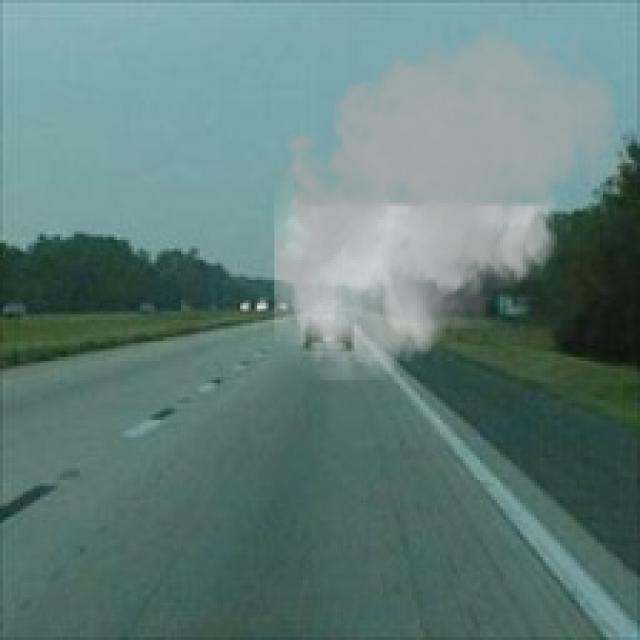Smoke: (260, 8, 626, 380)
